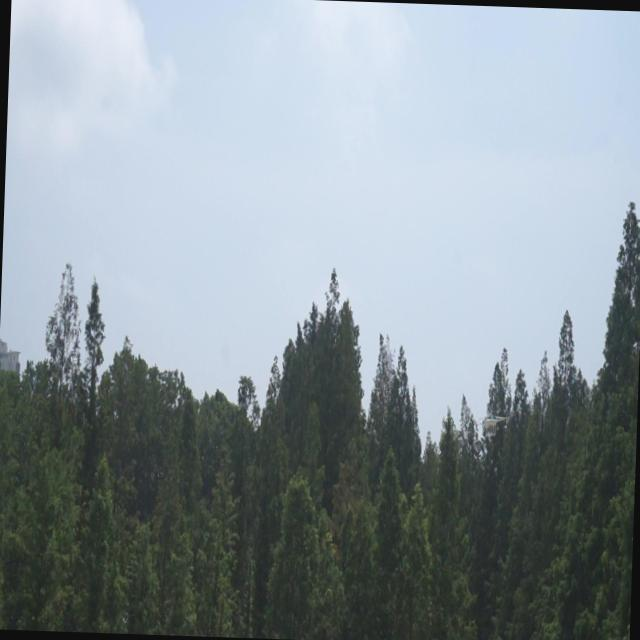drone: (468, 407, 513, 446)
